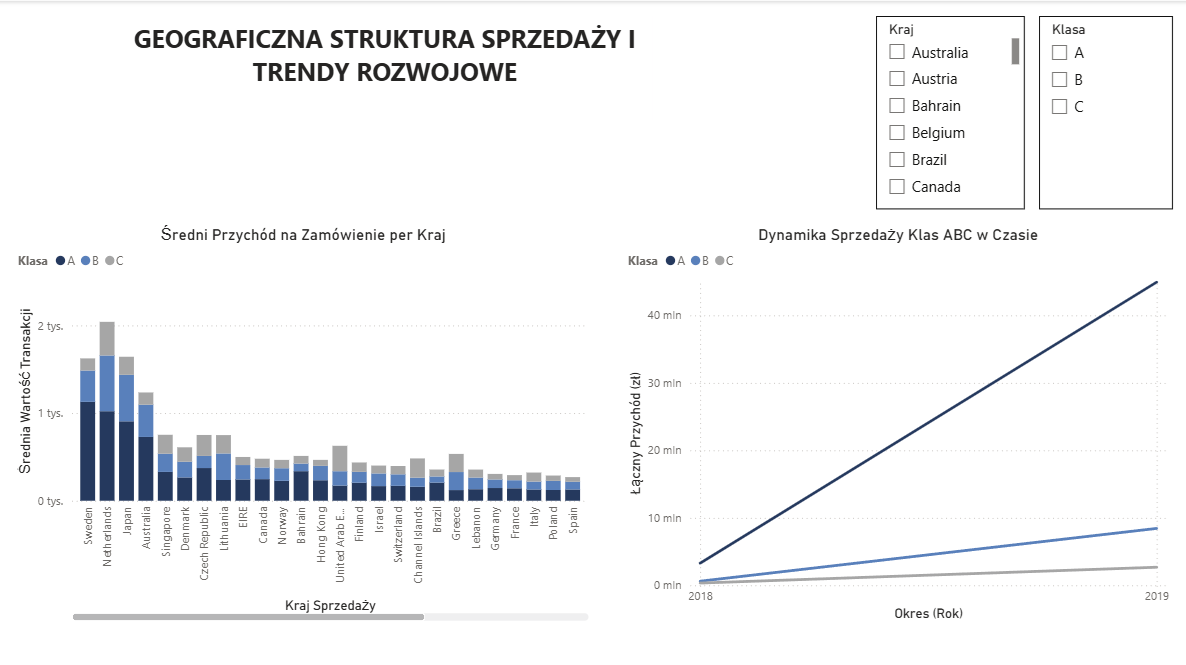

The page's visual inventory and layout, read from the dashboard file:
{"tool":"powerbi","page":{"name":"Rynki i Trendy","canvas":[1280,720],"ordinal":1},"visuals":[{"type":"columnChart","title":"Średni Przychód na Zamówienie per Kraj","fields":{"Category":["Sales Transaction.Country"],"Y":["Avg(Sales Transaction.Total_Revenue)"],"Series":["Sales Transaction.Klasa"]},"box":[16,240,624,432],"z":0},{"type":"lineChart","title":"Dynamika Sprzedaży Klas ABC w Czasie","fields":{"Category":["Sales Transaction.Date.Odmiana.Hierarchia dat.Rok","Sales Transaction.Date.Odmiana.Hierarchia dat.Kwartał","Sales Transaction.Date.Odmiana.Hierarchia dat.Miesiąc","Sales Transaction.Date.Odmiana.Hierarchia dat.Dzień"],"Y":["Sum(Sales Transaction.Total_Revenue)"],"Series":["Sales Transaction.Klasa"]},"box":[672,240,592,432],"z":1000},{"type":"textbox","box":[128,16,576,112],"z":2000},{"type":"slicer","fields":{"Values":["Sales Transaction.Country"]},"box":[944,16,160,208],"z":3000},{"type":"slicer","fields":{"Values":["Sales Transaction.Klasa"]},"box":[1120,16,144,208],"z":4000}]}

Visuals, with their boxes in screenshot pixels (x1, y1, x2, y2), scaled from the page's 1280x720 canvas onto the 1186x665 screenshot:
"Średni Przychód na Zamówienie per Kraj" columnChart: [left=15, top=222, right=593, bottom=621]
"Dynamika Sprzedaży Klas ABC w Czasie" lineChart: [left=623, top=222, right=1171, bottom=621]
textbox: [left=119, top=15, right=652, bottom=118]
slicer - Sales Transaction.Country: [left=875, top=15, right=1023, bottom=207]
slicer - Sales Transaction.Klasa: [left=1038, top=15, right=1171, bottom=207]
